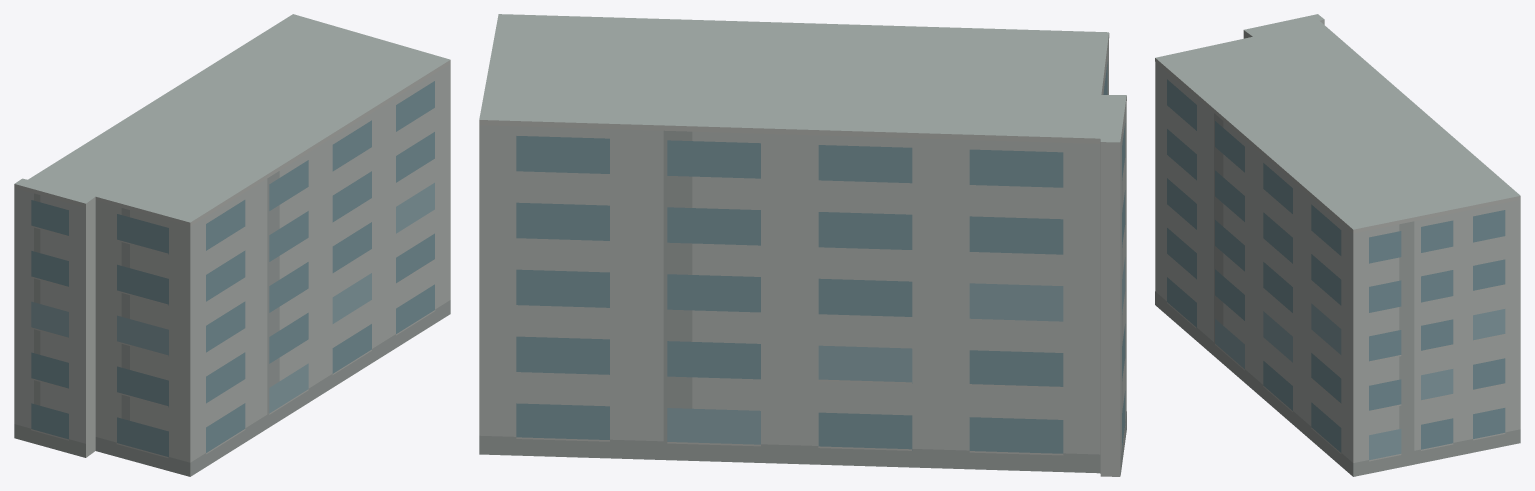
The model's file is survey-upis-32706529.glb.
3 renders of one model, left to right at view 1: azimuth 30°, elevation 25°; view 2: azimuth 150°, elevation 25°; view 3: azimuth 270°, elevation 25°, orthographic. The views are drawn at different scales.
Parts seen in each view (by area): view 1: survey-upis-32706529.tmp; view 2: survey-upis-32706529.tmp; view 3: survey-upis-32706529.tmp.
Part boxes in pixels (<box>): survey-upis-32706529.tmp: <box>14,14,450,476</box>; survey-upis-32706529.tmp: <box>479,14,1126,476</box>; survey-upis-32706529.tmp: <box>1155,14,1520,476</box>.
Bounding box in the file's own units: 28.53 × 15.25 × 20.44.
